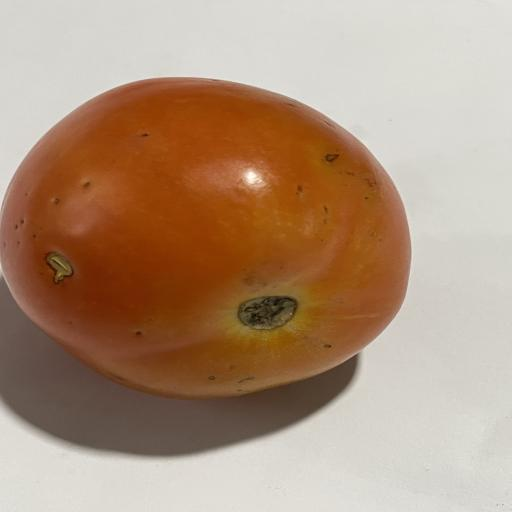unripe: (0, 77, 410, 398)
